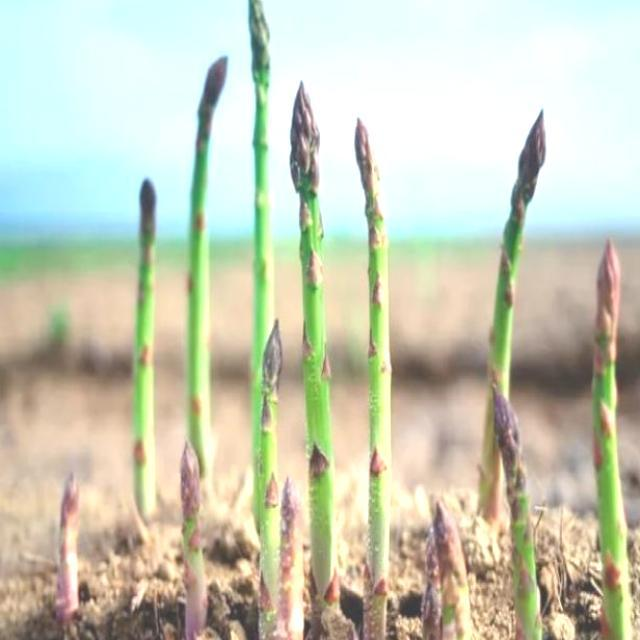aspargus: (291, 91, 340, 640), (354, 119, 394, 640)
